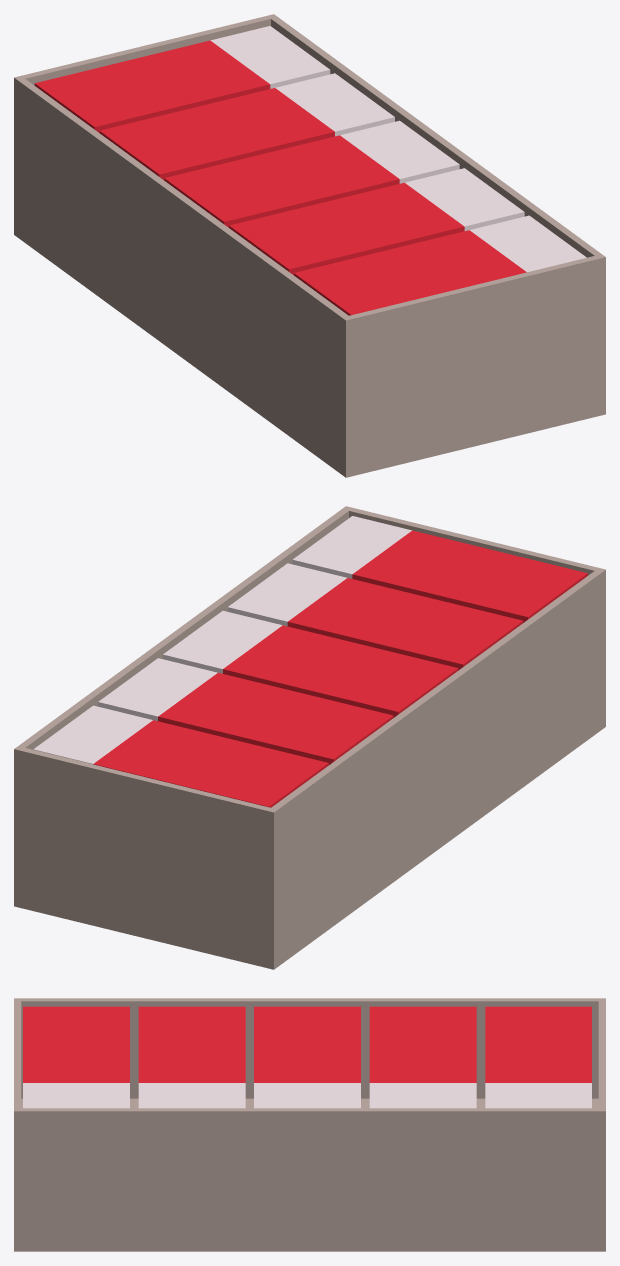
The model's file is SM_box_cigs.fbx.
3 renders of one model, top to bottom at view 1: azimuth 30°, elevation 25°; view 2: azimuth 150°, elevation 25°; view 3: azimuth 270°, elevation 25°, orthographic. The views are drawn at different scales.
Visible parts, largest first — view 1: box_cigs; view 2: box_cigs; view 3: box_cigs.
Boxes of the visible parts, x1,y1,x2,y2 form: box_cigs: (14, 14, 605, 477); box_cigs: (14, 506, 605, 969); box_cigs: (14, 998, 605, 1251).
Size of the model in its own units: 32.44 by 18.75 by 71.74.
